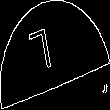L_S: (41, 26, 69, 84)
